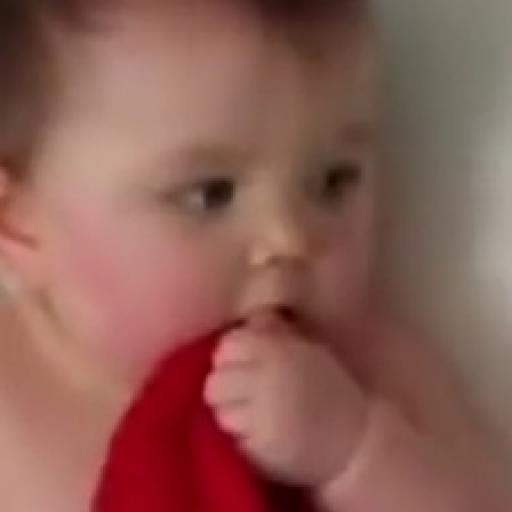Autism: (31, 19, 405, 438)
